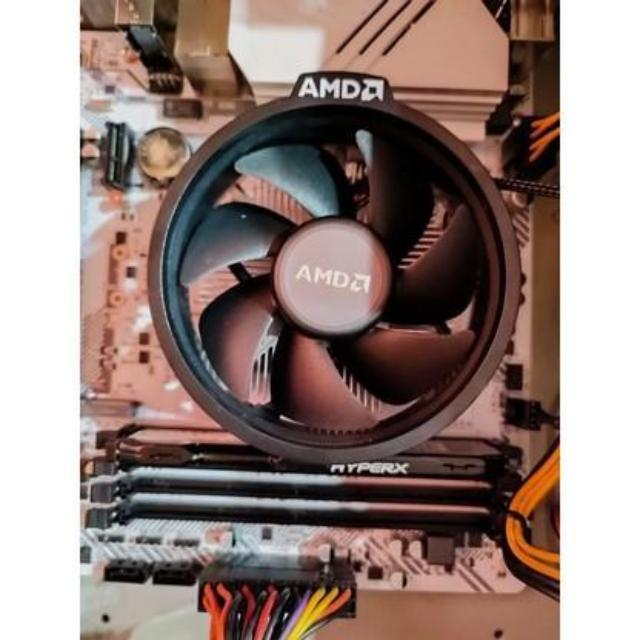CPU_Fan: (148, 69, 524, 471)
